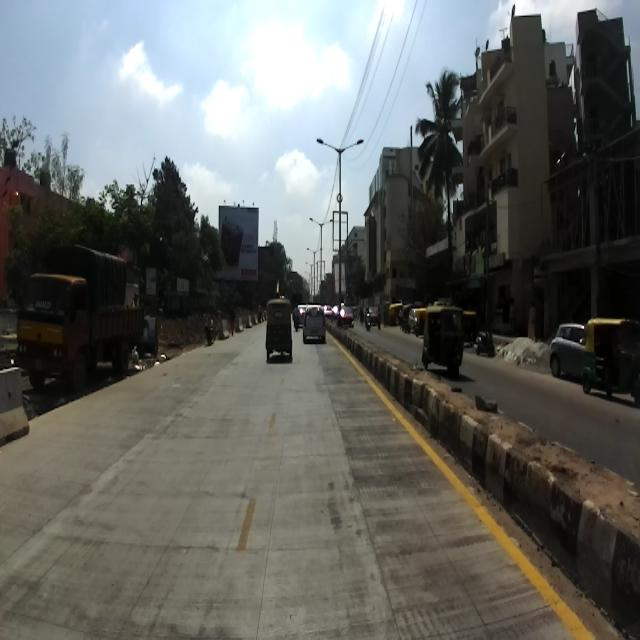auto ahead at: (262, 301, 298, 370)
car ahead at: (300, 303, 327, 346)
truck ahead at: (12, 232, 146, 396)
